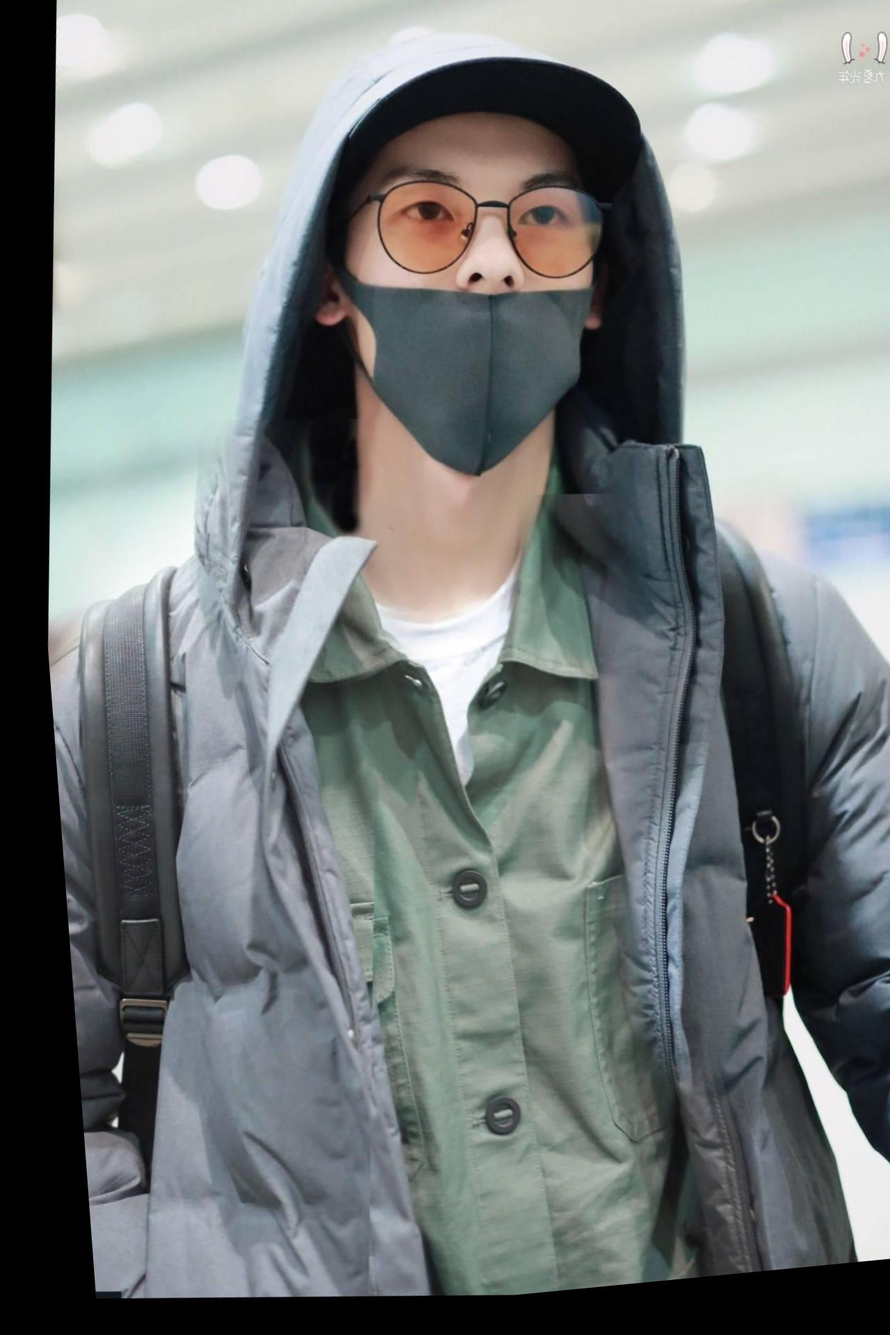WRONG: (331, 136, 612, 492)
